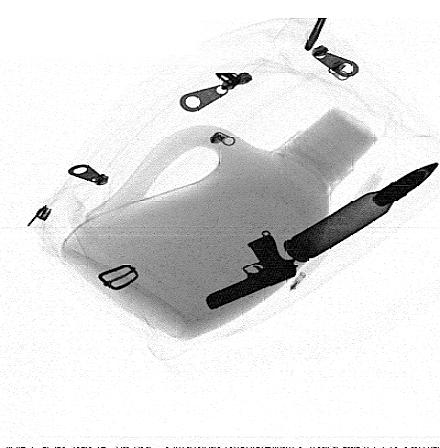Bullet: (283, 162, 438, 264)
Gun: (203, 232, 297, 311)
